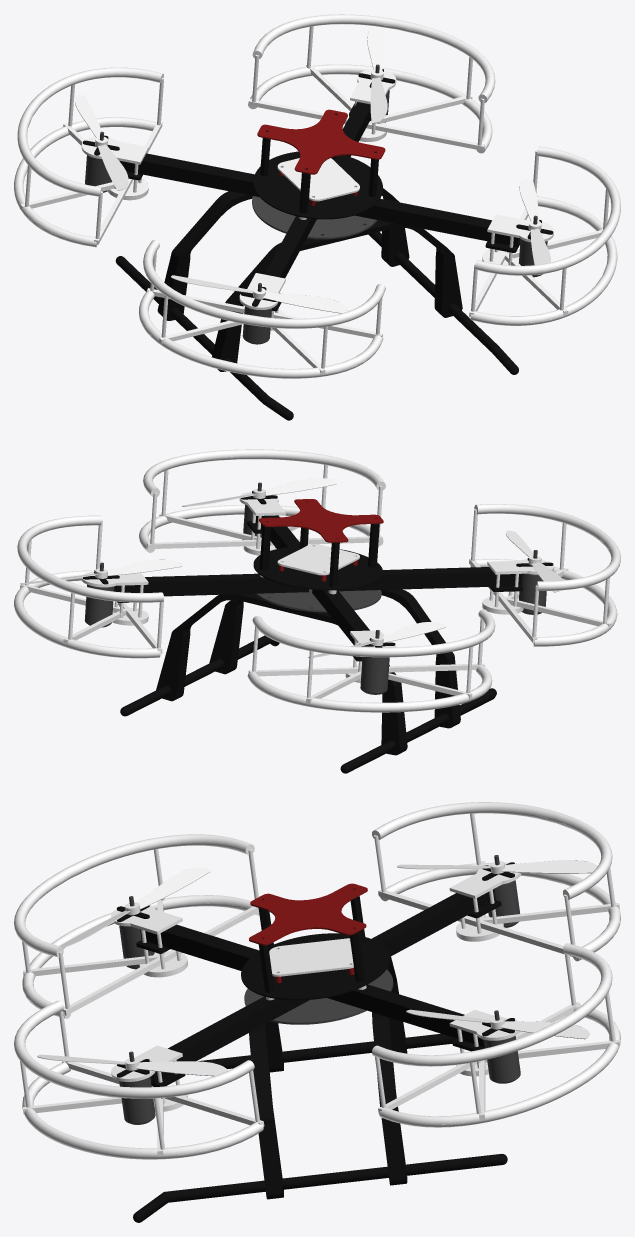
The model's file is 无人机2.FBX.
3 renders of one model, top to bottom at view 1: azimuth 30°, elevation 25°; view 2: azimuth 150°, elevation 25°; view 3: azimuth 270°, elevation 25°, orthographic. The views are drawn at different scales.
Visible parts, largest first — view 1: -DC_Brep (×27); view 2: -DC_Brep (×28); view 3: -DC_Brep (×30).
Boxes of the visible parts, x1,y1,x2,y2 form: -DC_Brep (×27): (14,14,620,420); -DC_Brep (×28): (14,449,620,773); -DC_Brep (×30): (14,802,620,1222).
Bounding box in the file's own units: 535 × 242 × 538.
